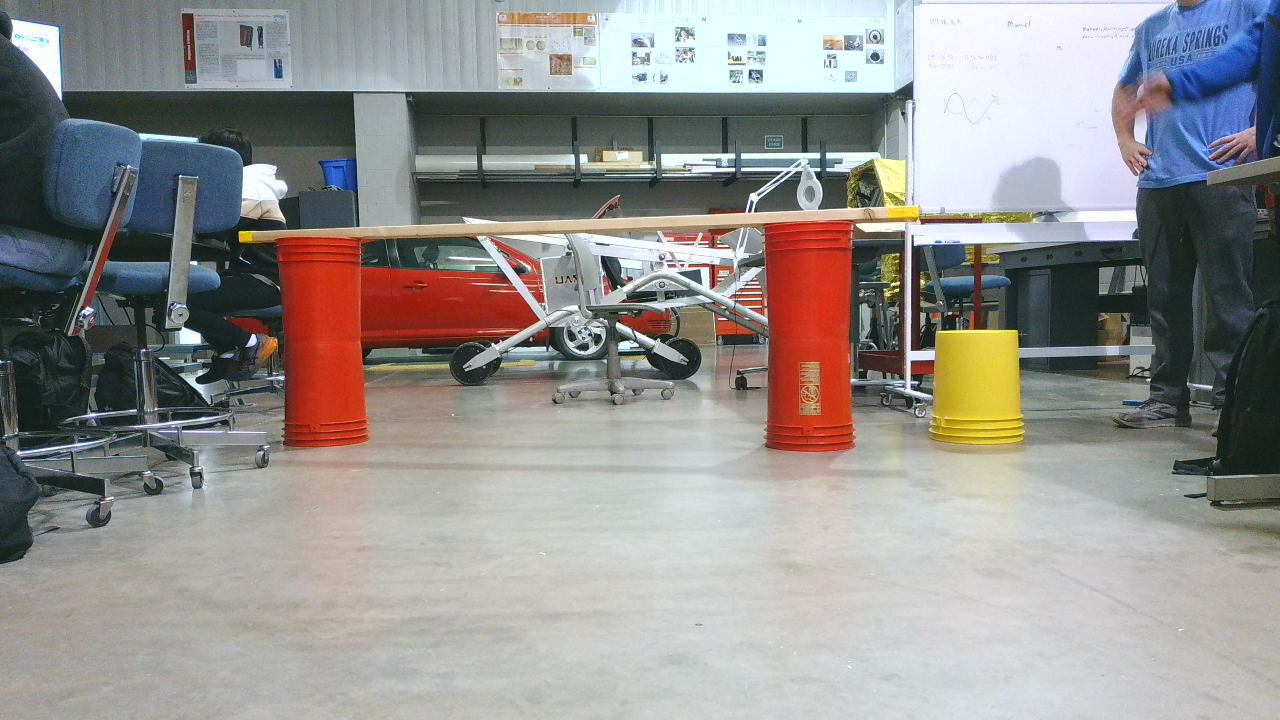red_bucket_arch: (262, 233, 873, 467)
yellow_bucket: (935, 327, 1031, 463)
